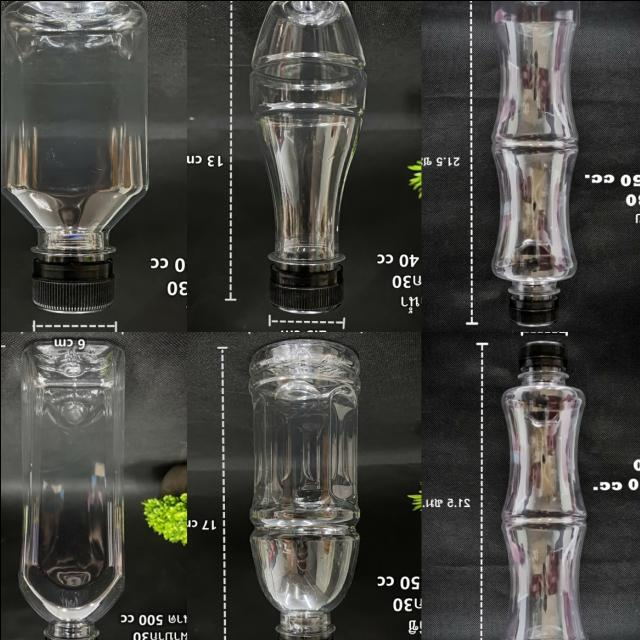plastik: (0, 0, 147, 313), (250, 0, 365, 313), (248, 339, 360, 640), (18, 339, 123, 640), (491, 0, 579, 325), (501, 342, 587, 640)
